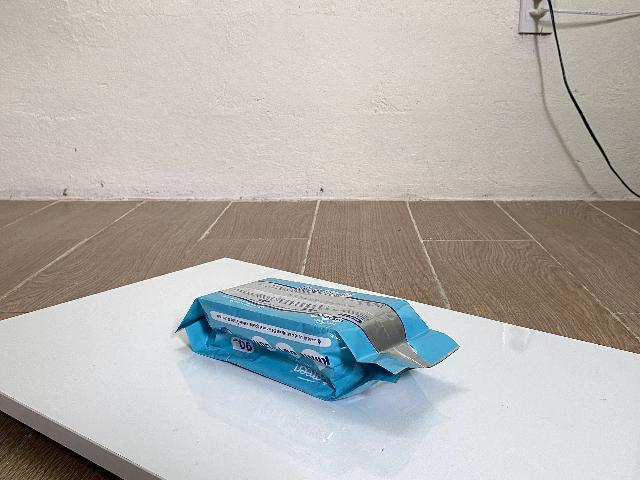Let-green_alcohol_wipes: (176, 276, 459, 404)
